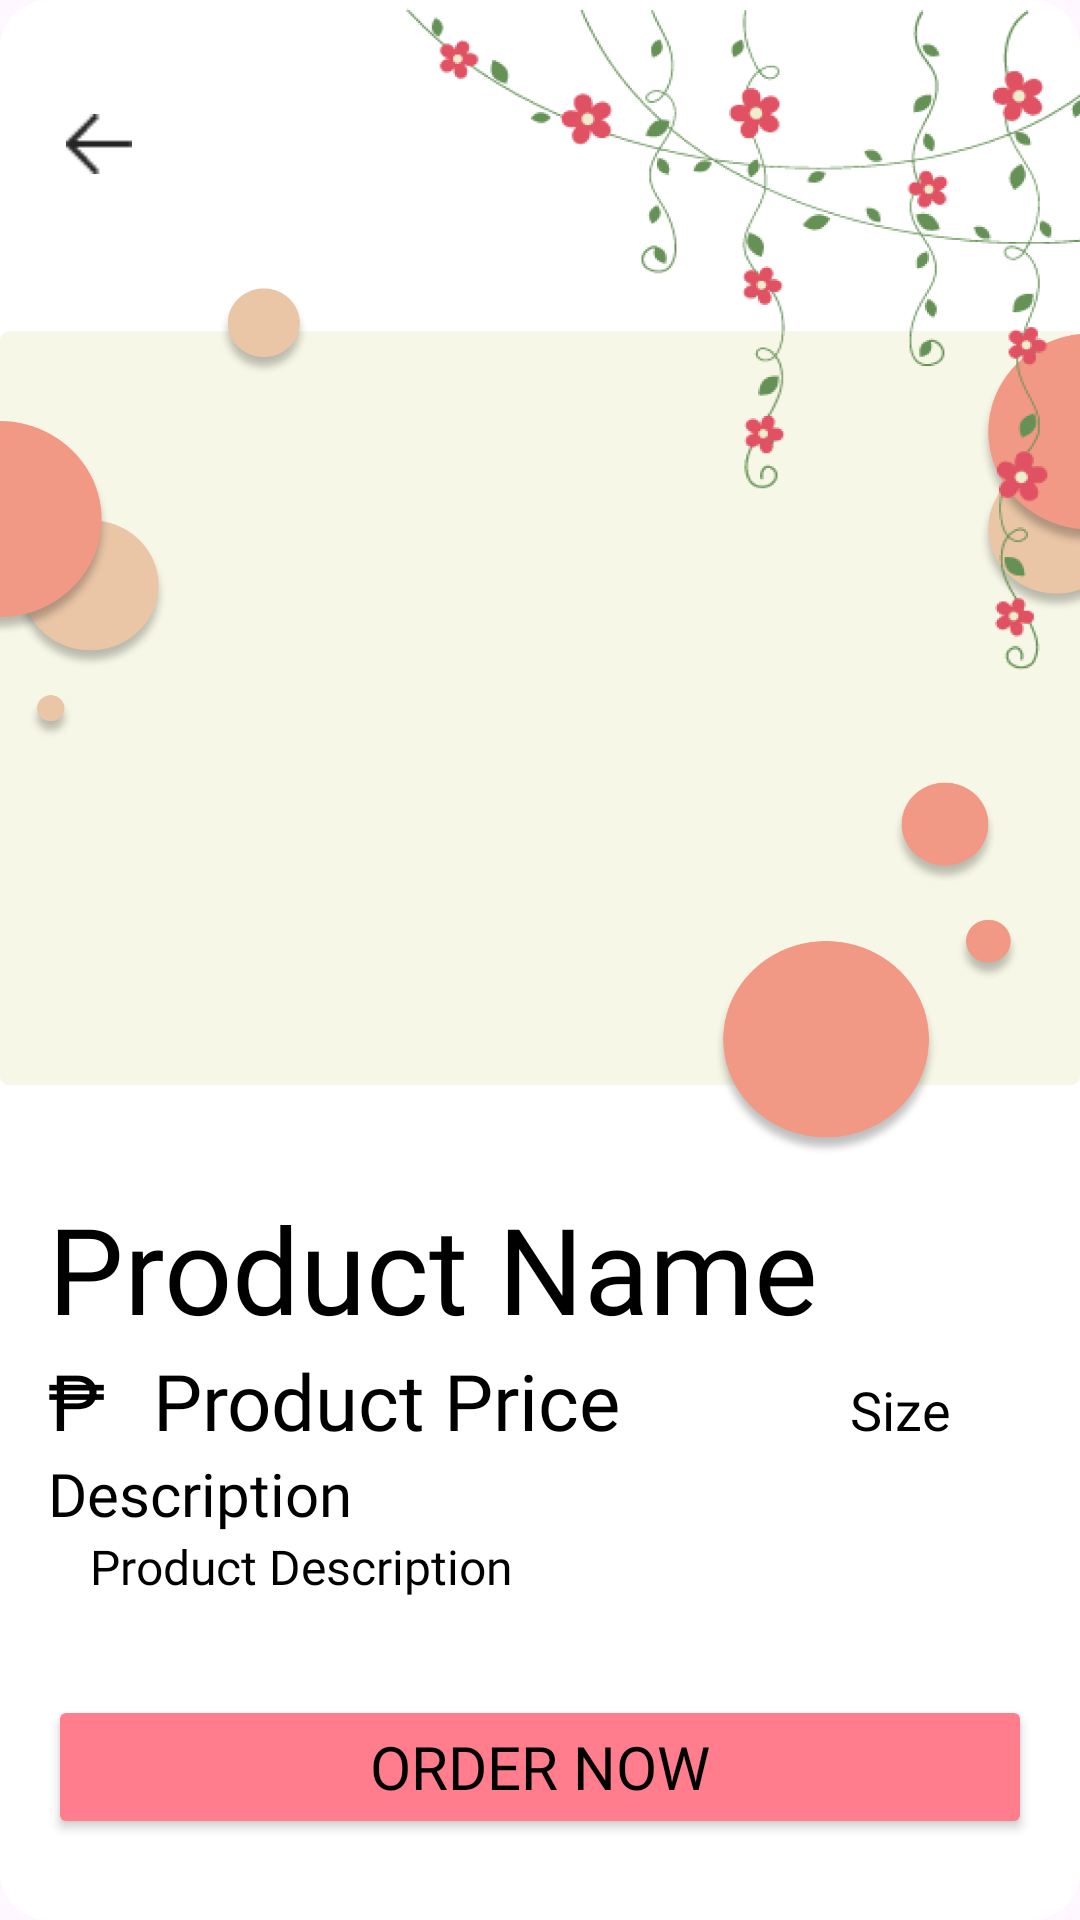

Screen size 1080w x 1920h. Icon name, then its center in pixels as [x,y]:
back: [99,144]
